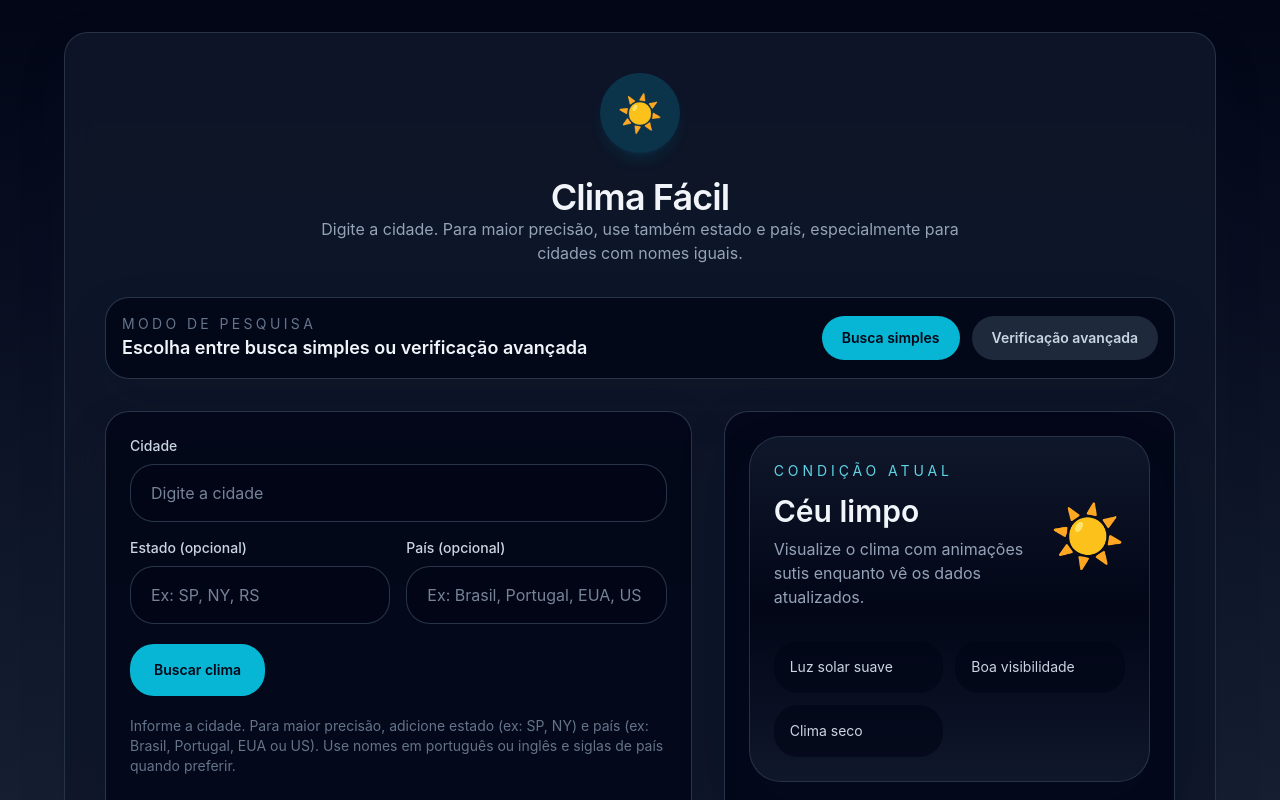
Test: App integration › shows an error if the weather service fails
The width and height of the screenshot is (1280, 800).
Type "Cidade Inválida" into the field labelled "Cidade" at (398, 493), box [130,464,667,522]
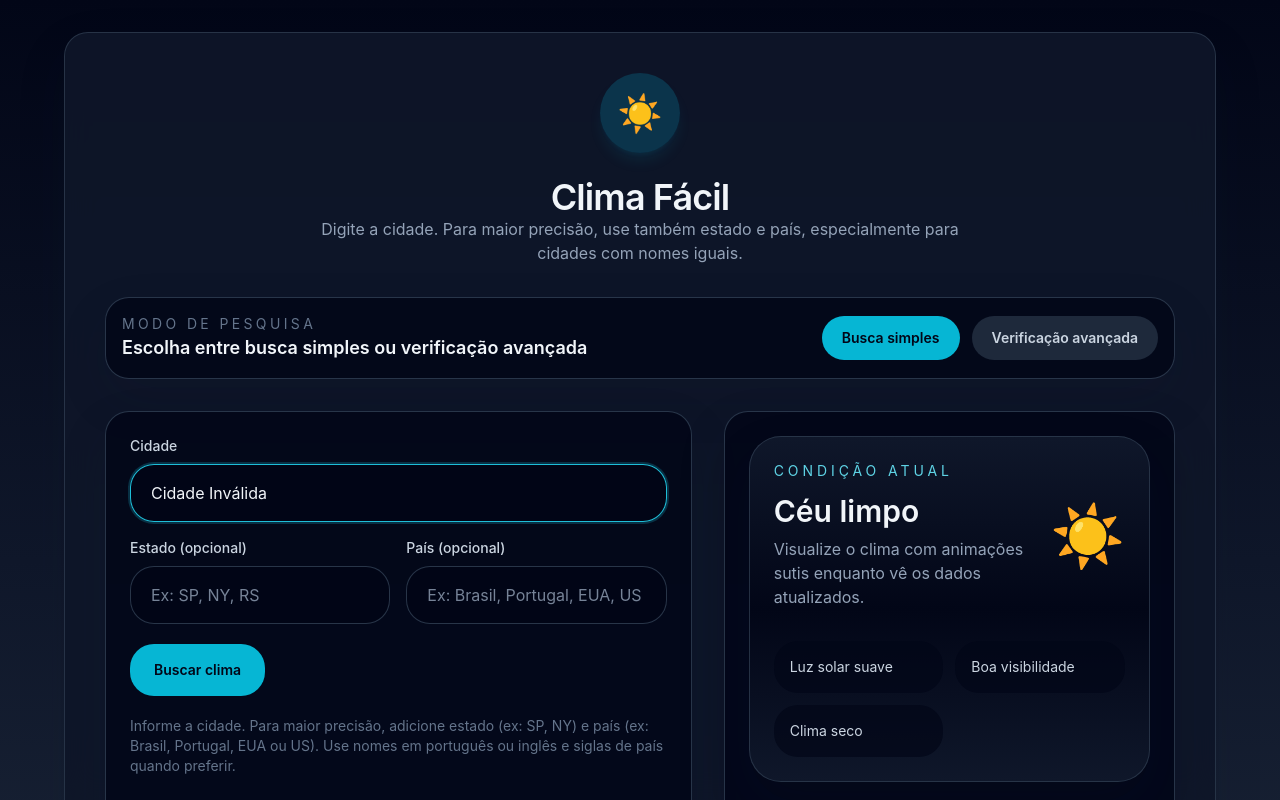
Click the button "Buscar clima" at (198, 670), box [130,644,265,696]
(page scrolled)
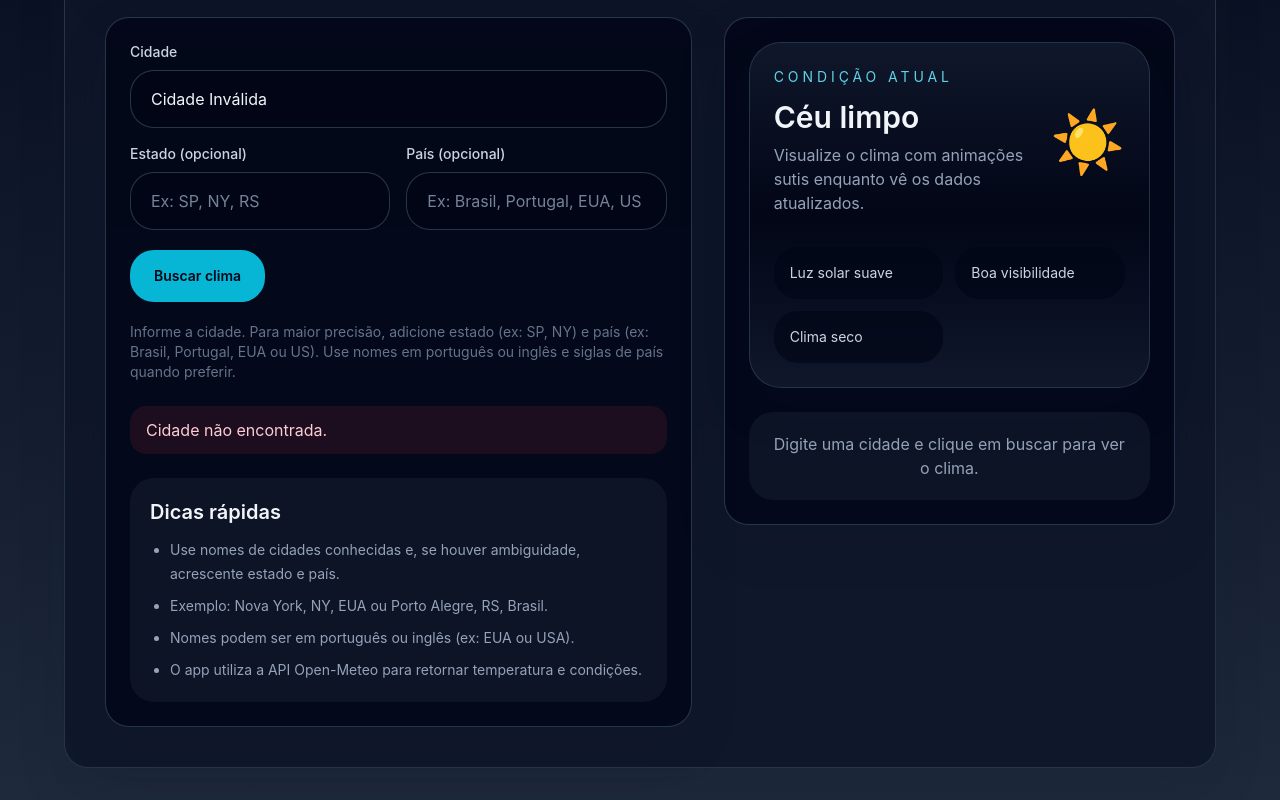
Result: the text "Cidade não encontrada." is shown at [130,406,667,454]
